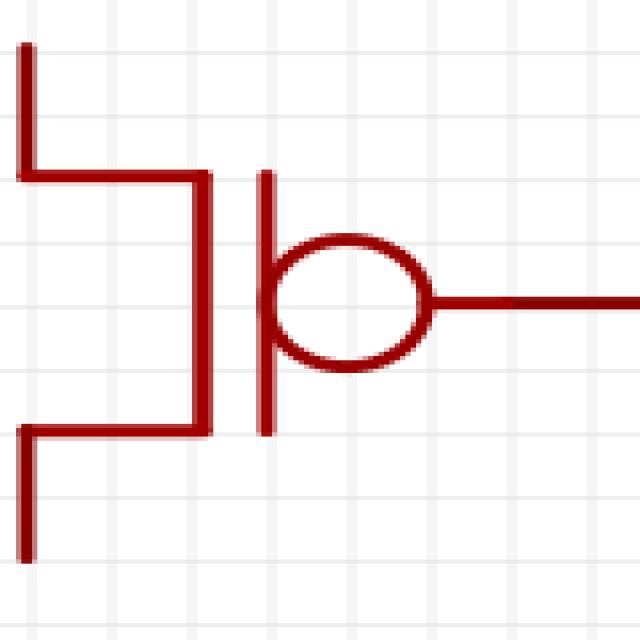pmos: (0, 47, 640, 627)
